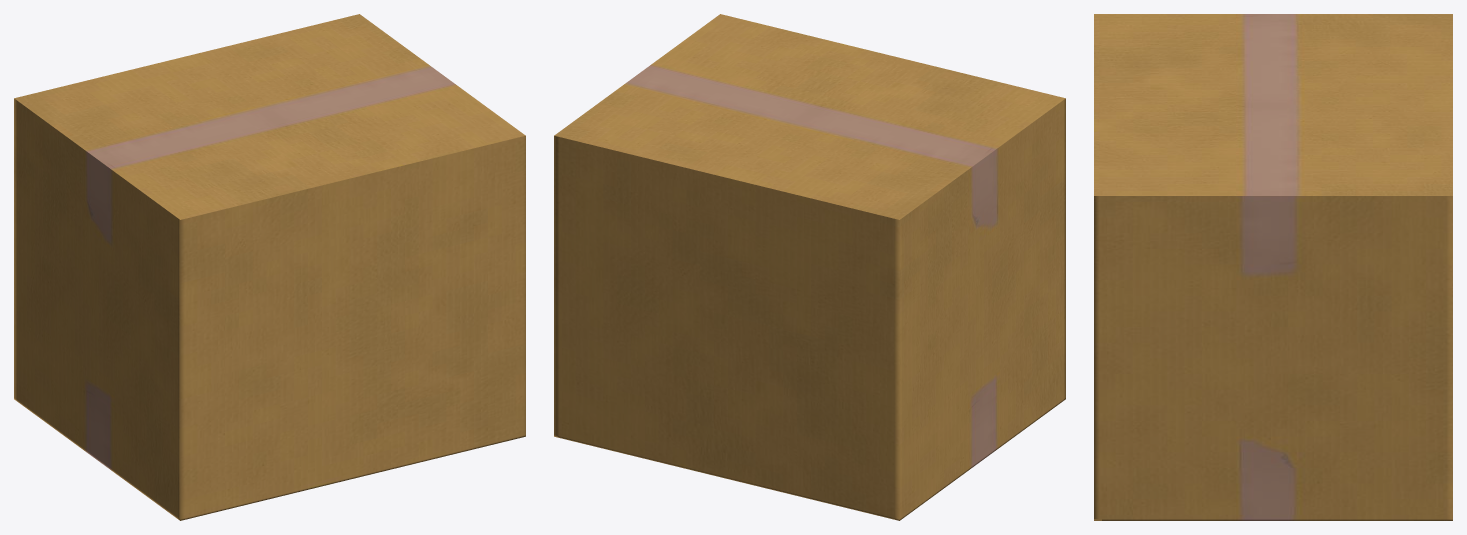
File: sf_boxes.glb
3 views of the same model, side by side, from view 1: azimuth 30°, elevation 25°; view 2: azimuth 150°, elevation 25°; view 3: azimuth 270°, elevation 25° (orthographic). The views are drawn at different scales.
Parts seen in each view (by area): view 1: CardboardBoxClosed_CardboardBoxClosed_0; view 2: CardboardBoxClosed_CardboardBoxClosed_0; view 3: CardboardBoxClosed_CardboardBoxClosed_0.
Part boxes in pixels (bbox=[...]): CardboardBoxClosed_CardboardBoxClosed_0: bbox=[14, 14, 525, 520]; CardboardBoxClosed_CardboardBoxClosed_0: bbox=[554, 14, 1065, 520]; CardboardBoxClosed_CardboardBoxClosed_0: bbox=[1094, 14, 1452, 520].
Bounding box in the file's own units: 0.6007 × 0.5 × 0.5006.
1 material, 1 textured.
